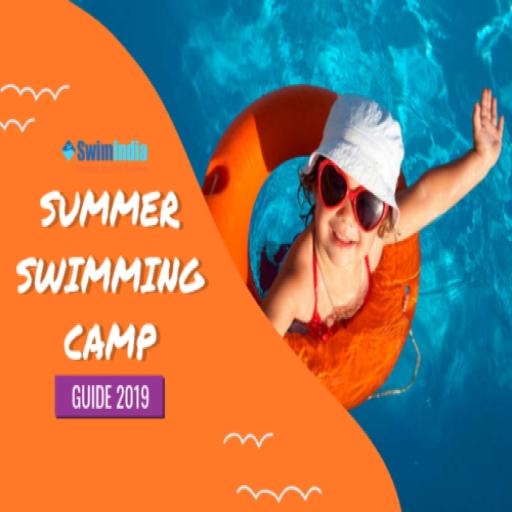swimming: (247, 56, 506, 484)
